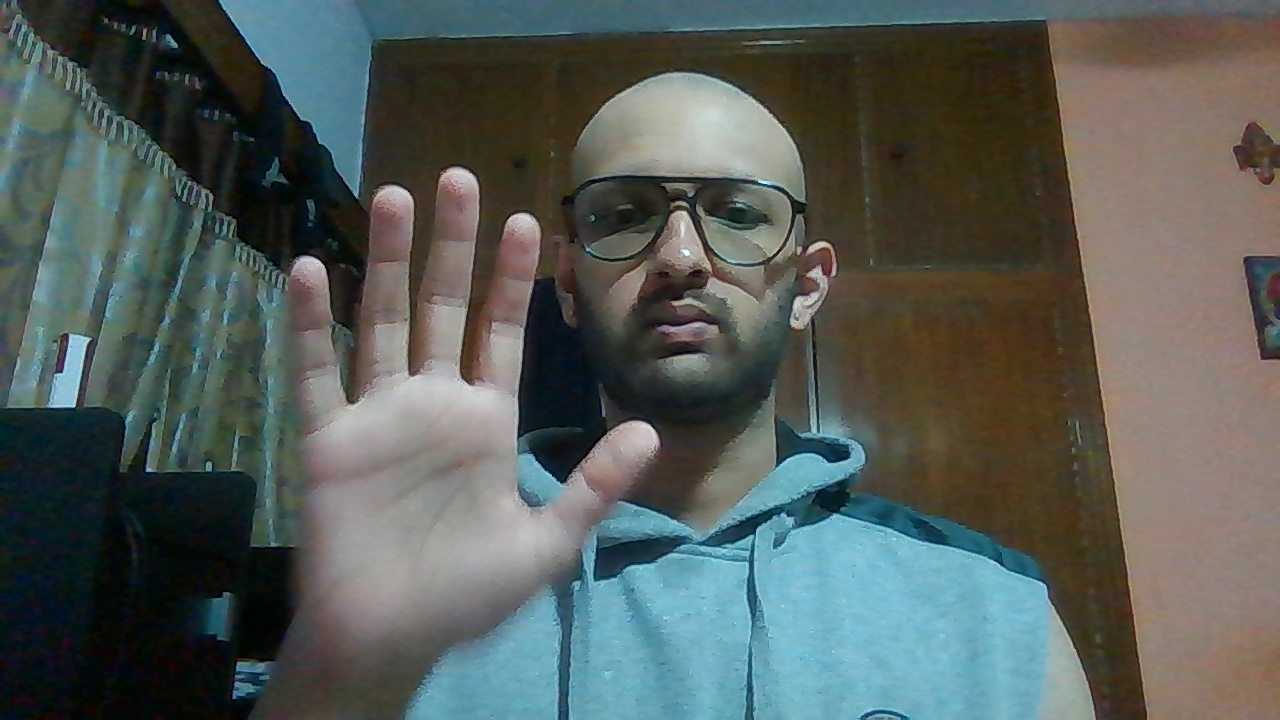Hello: (278, 161, 662, 673)
